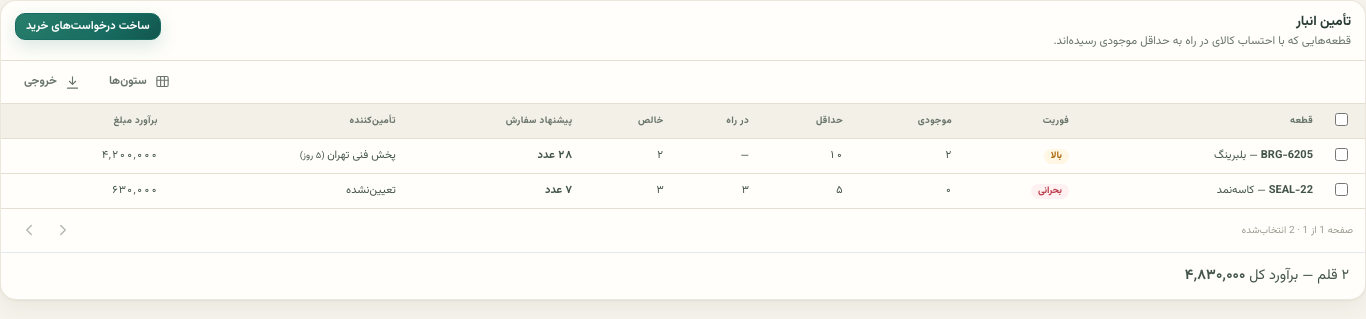
Test: replenishment panel › creates the requisitions and reports their numbers
The image size is (1366, 319).
What coordinates should you click on to do the following:
click the button "ساخت درخواست‌های خرید"
I would click on:
 (88, 26)
Its box is [15,13,161,40].
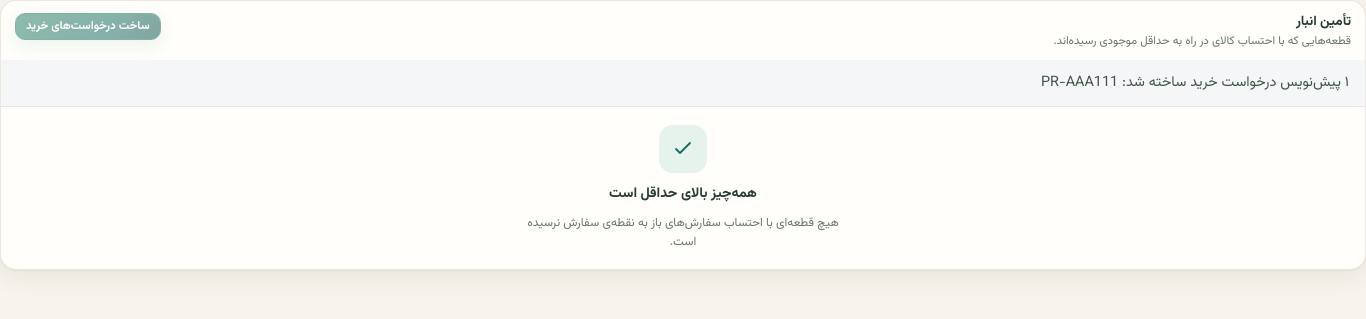
Expected: the text "۱ پیش‌نویس درخواست خرید ساخته شد: PR-AAA111" is shown, [1,60,1365,107]
